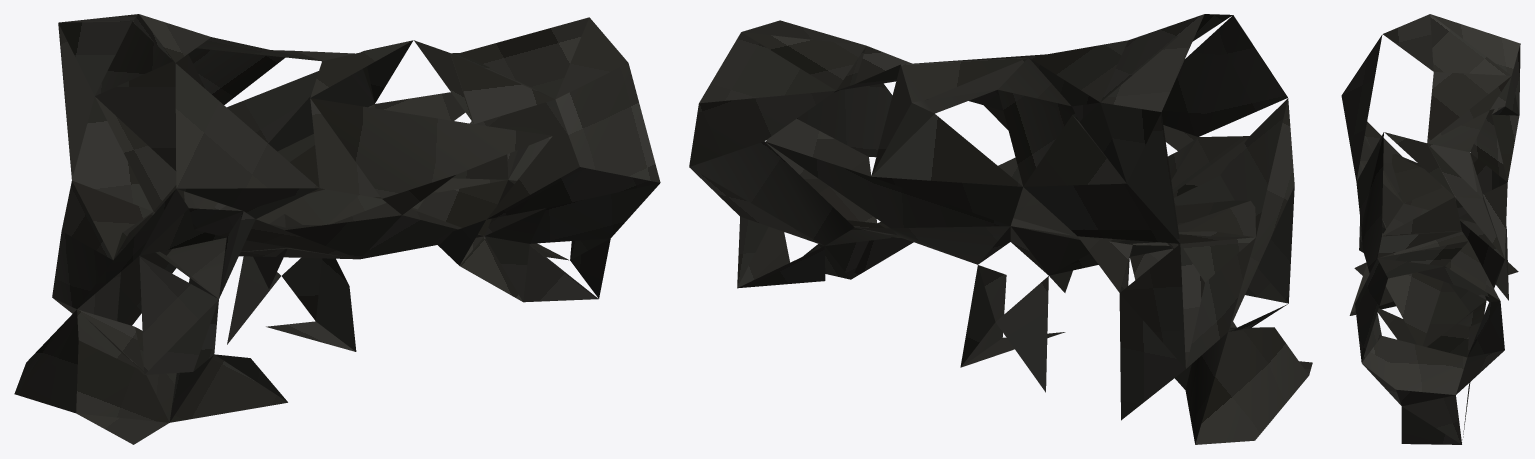
The model's file is stunt-corkscrew.collision.glb.
3 views of the same model, side by side, from view 1: azimuth 30°, elevation 25°; view 2: azimuth 150°, elevation 25°; view 3: azimuth 270°, elevation 25° (orthographic). The views are drawn at different scales.
Visible parts, largest first — view 1: output_unwrapped; view 2: output_unwrapped; view 3: output_unwrapped.
Part boxes in pixels (left/top/right/bottom): output_unwrapped: left=14, top=14, right=660, bottom=444; output_unwrapped: left=689, top=14, right=1312, bottom=444; output_unwrapped: left=1341, top=14, right=1520, bottom=444.
Size of the model in its own units: 1.67 by 1.09 by 0.6258.
1 material, 1 textured.
